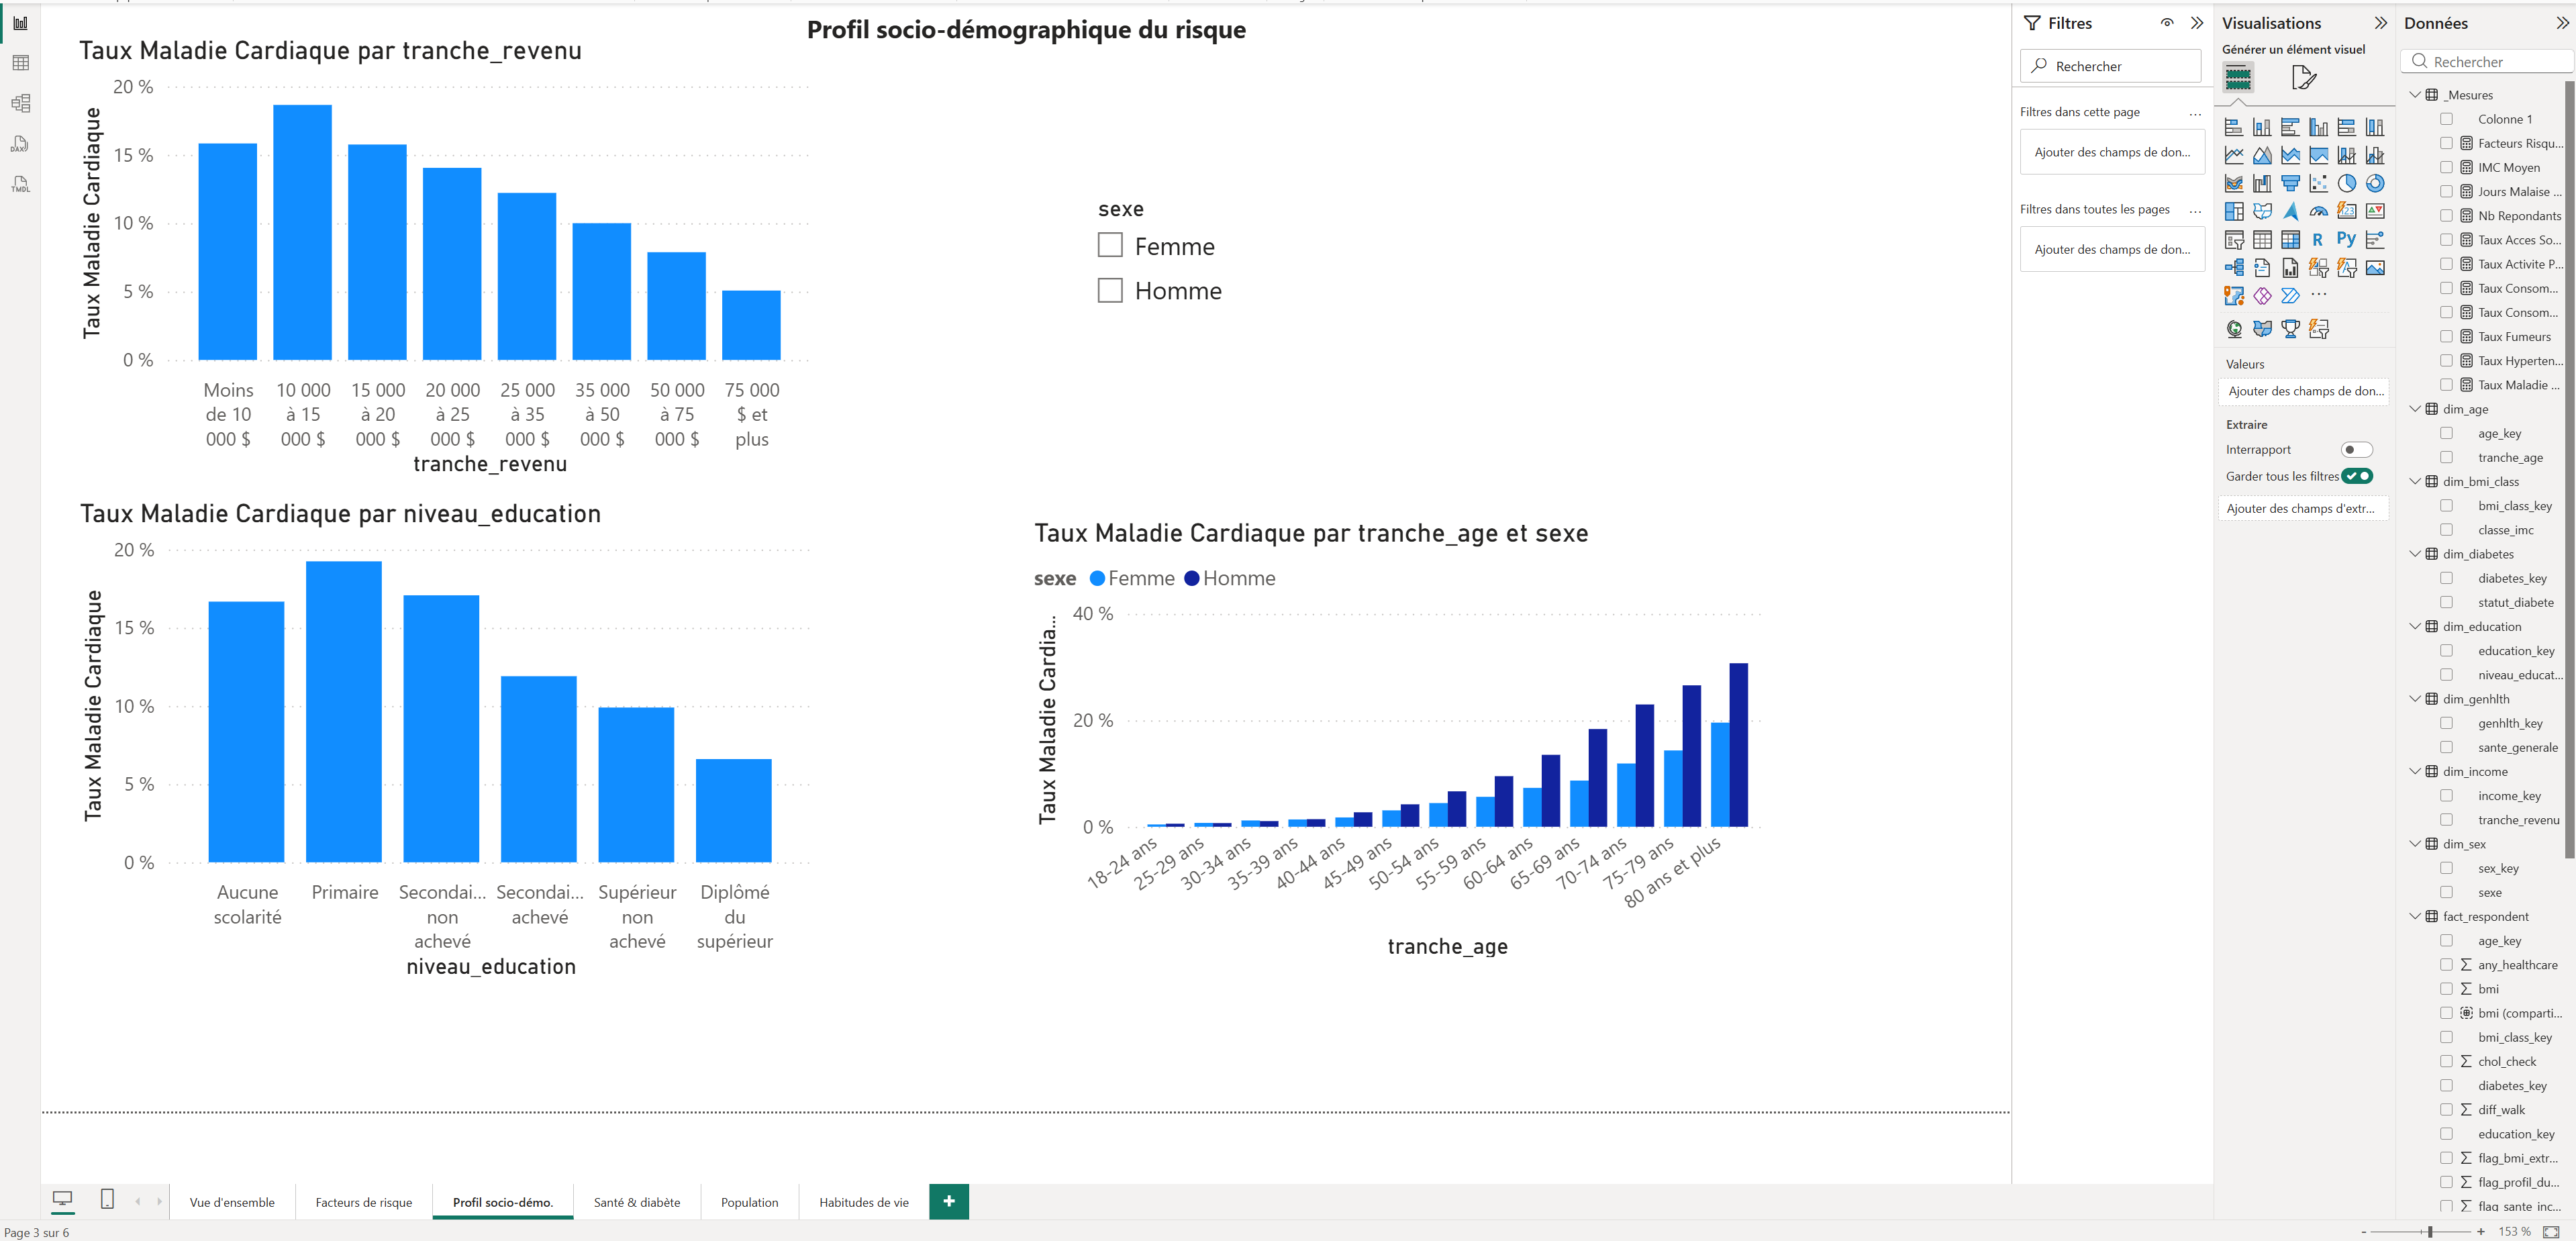

This screenshot's page, from the dashboard's own definition file:
{"tool":"powerbi","page":{"name":"Profil socio-démo.","canvas":[1280,720],"ordinal":2},"visuals":[{"type":"clusteredColumnChart","fields":{"Category":["dim_income.tranche_revenu"],"Y":["_Mesures.Taux Maladie Cardiaque"]},"box":[19.6,20.3,485.9,291],"z":0},{"type":"clusteredColumnChart","fields":{"Category":["dim_education.niveau_education"],"Y":["_Mesures.Taux Maladie Cardiaque"]},"box":[20.3,321.1,485.9,316.5],"z":1000},{"type":"clusteredColumnChart","fields":{"Category":["dim_age.tranche_age"],"Y":["_Mesures.Taux Maladie Cardiaque"],"Series":["dim_sex.sexe"]},"box":[640.2,333.5,485.9,291],"z":2000},{"type":"slicer","fields":{"Values":["dim_sex.sexe"]},"box":[673.6,119.7,485.9,155],"z":3000},{"type":"textbox","box":[405.5,0,469.5,47.1],"z":3001}]}

Visuals, with their boxes on the page's 1280x720 design canvas (x1, y1, x2, y2). These are canvas units, not pixel positions in the 2576x1241 screenshot, which may show the page scaled, cropped or inside an application window:
clusteredColumnChart - dim_income.tranche_revenu x _Mesures.Taux Maladie Cardiaque: BBox(20, 20, 506, 311)
clusteredColumnChart - dim_education.niveau_education x _Mesures.Taux Maladie Cardiaque: BBox(20, 321, 506, 638)
clusteredColumnChart - dim_age.tranche_age x _Mesures.Taux Maladie Cardiaque: BBox(640, 334, 1126, 624)
slicer - dim_sex.sexe: BBox(674, 120, 1160, 275)
textbox: BBox(406, 0, 875, 47)
